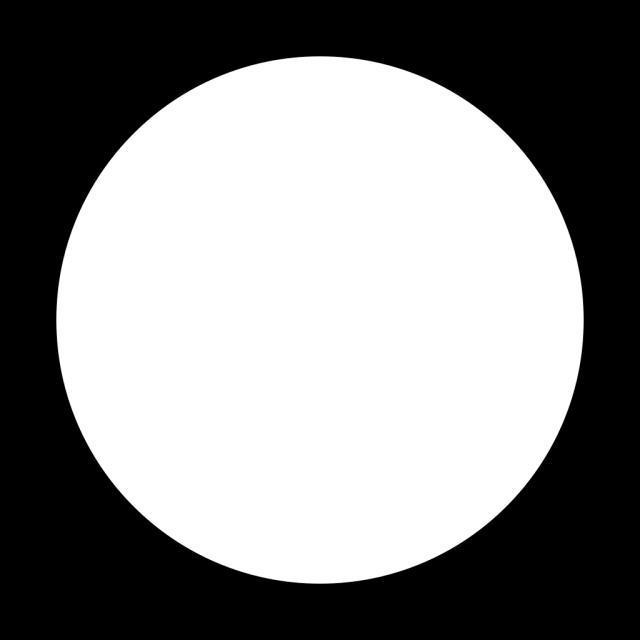Circle: (47, 42, 596, 596)
